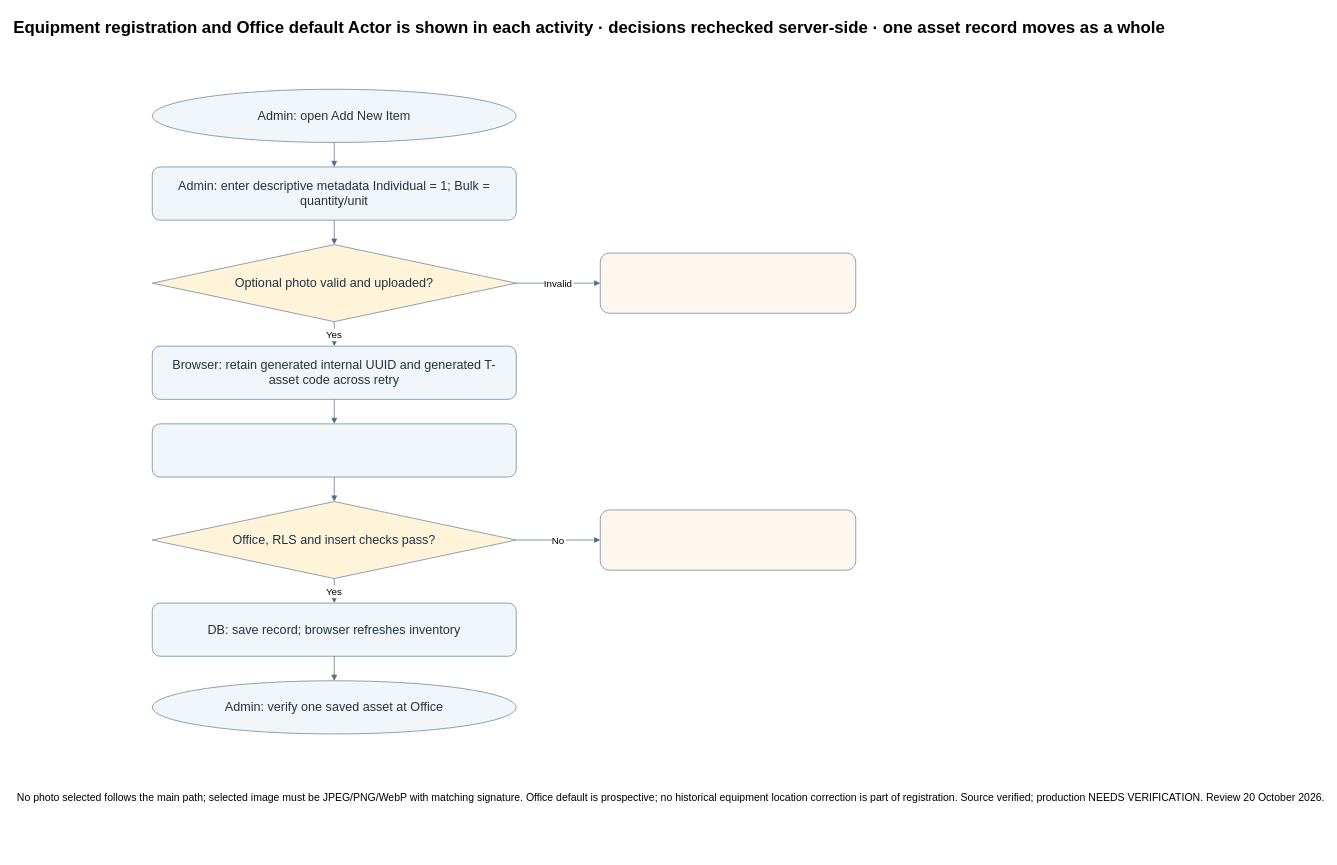
This 1337x865 diagram has some shape labels left out. The box of each missing label's shape, as (x1, y1, x2, y2) in pixels:
DB: INSERT AVAILABLE / unheld stock Office trigger supplies configured site: (152, 423, 516, 477)
If photo selected and invalid: retain form; choose valid ≤5 MiB image: (600, 252, 856, 313)
Reject insert / keep form and staged photo; support reviews configuration: (600, 509, 856, 570)
